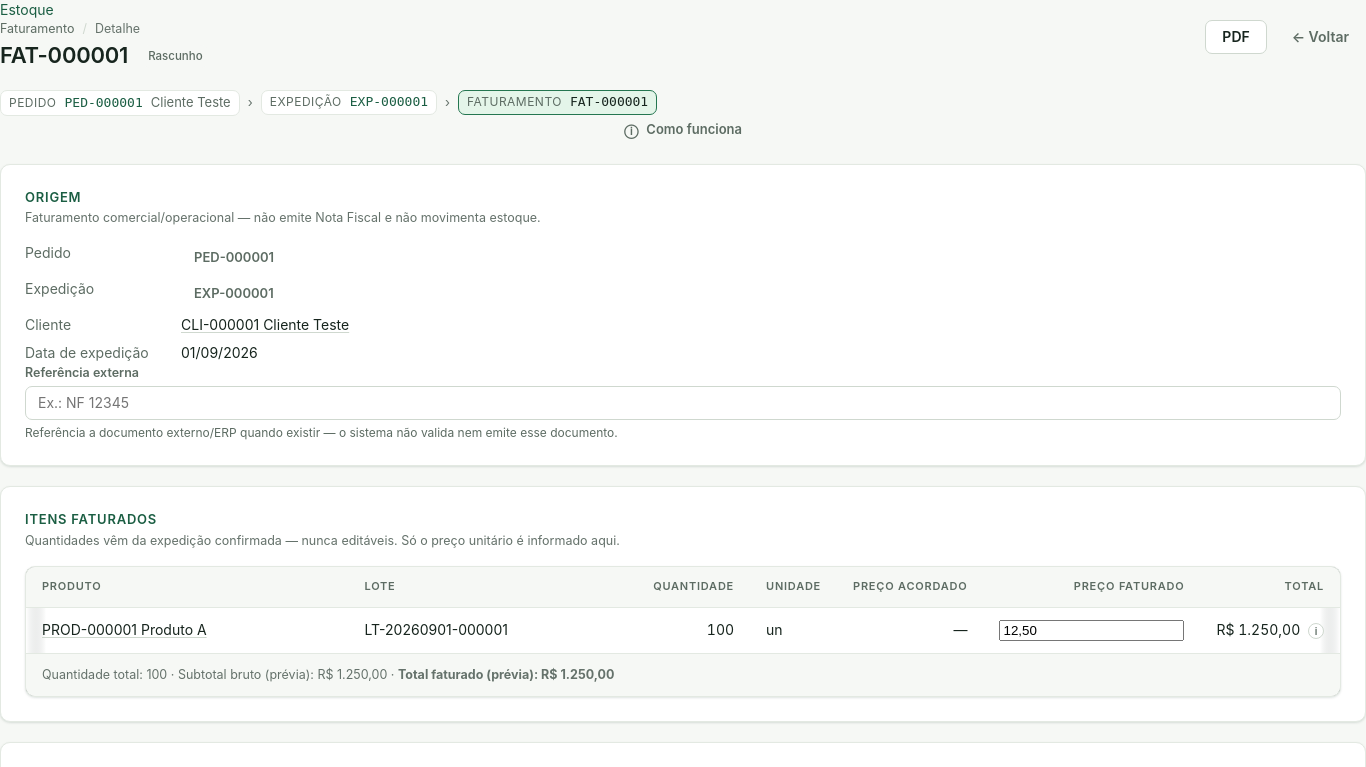
Test case: Faturamento — guarda de alterações não salvas › carregado e não tocado: nada a gravar, e sai sem perguntar
Expected: the heading "FAT-000001" is shown, 0,42 -> 128,70
Click the link "Estoque" at (27, 10), box 0,1 -> 54,18
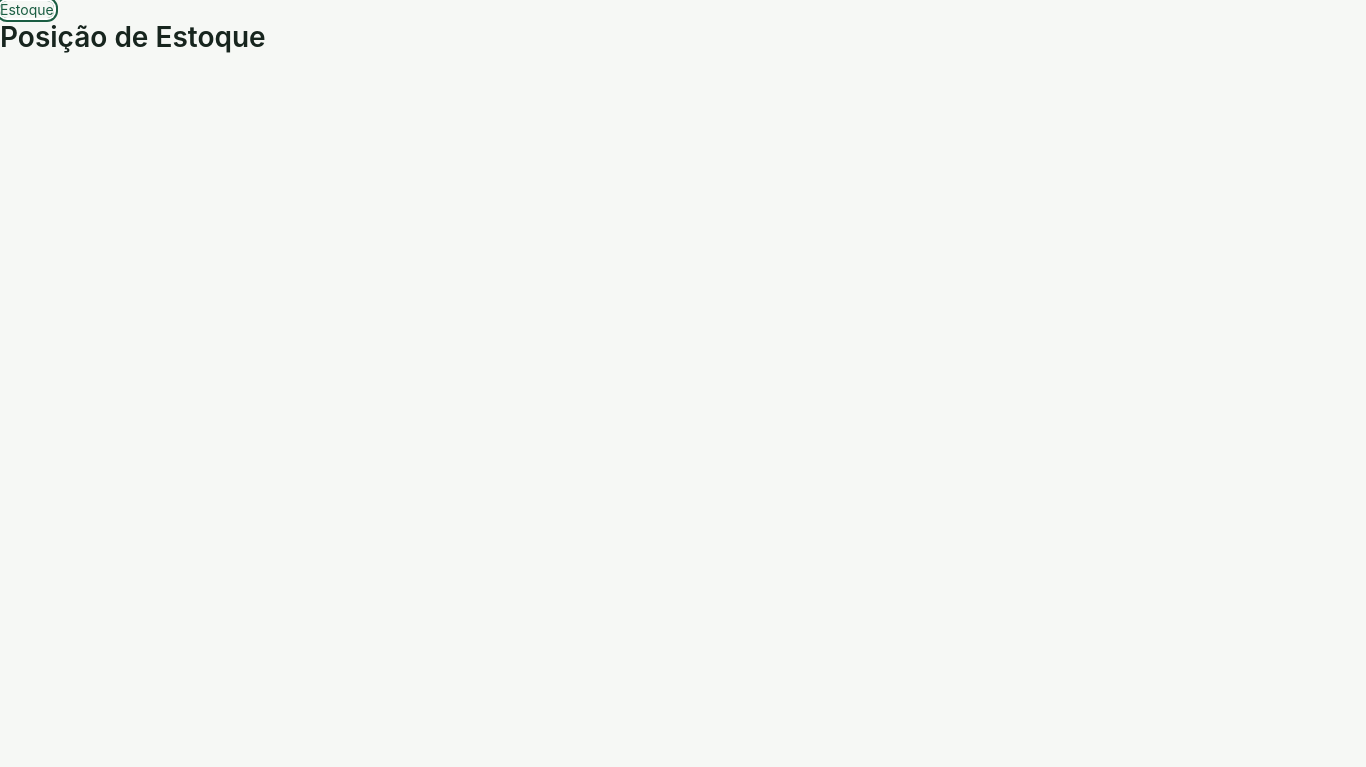
Expected: the heading "Posição de Estoque" is shown, 0,20 -> 266,54
